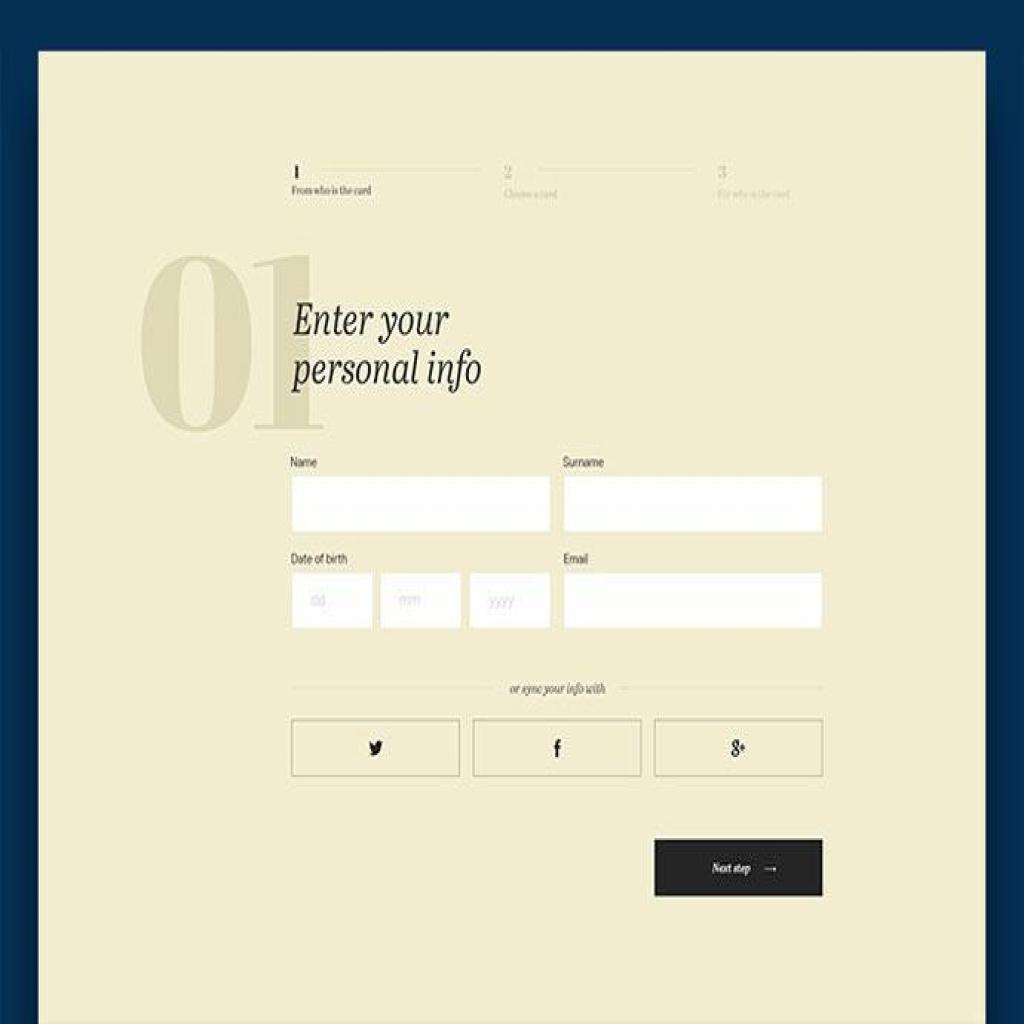button: (291, 717, 460, 777), (654, 838, 824, 896), (475, 719, 641, 777), (654, 719, 820, 777)
input: (292, 472, 550, 534), (564, 569, 822, 629), (565, 476, 821, 534), (294, 571, 371, 629), (469, 575, 551, 629), (380, 575, 464, 627)
label: (285, 289, 484, 403), (291, 548, 350, 569), (561, 450, 605, 470), (285, 453, 319, 474), (564, 552, 601, 570)
